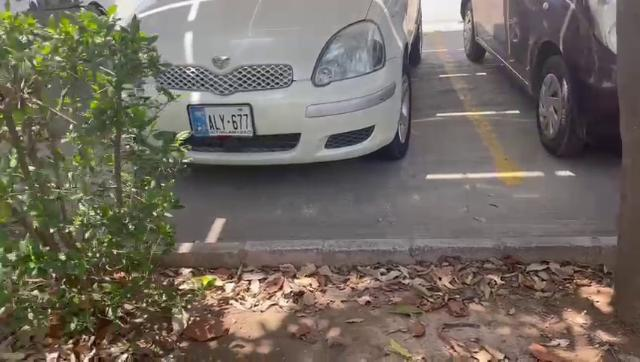plate: (186, 100, 258, 140)
